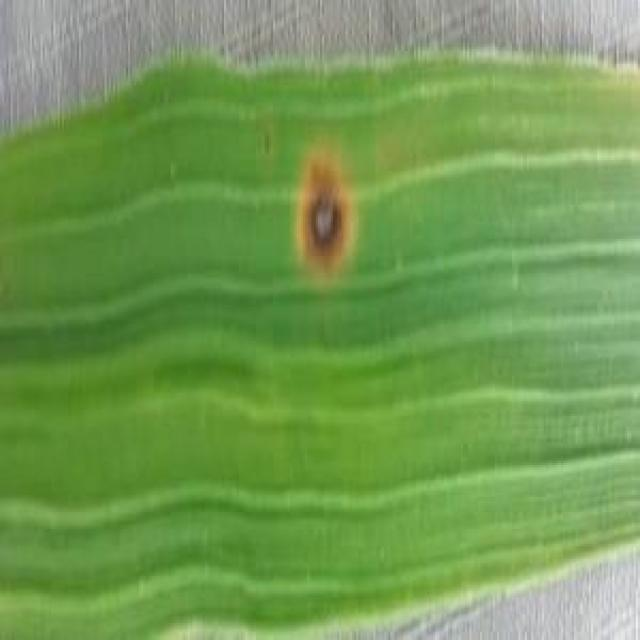Brown_Spot: (296, 144, 364, 270)
